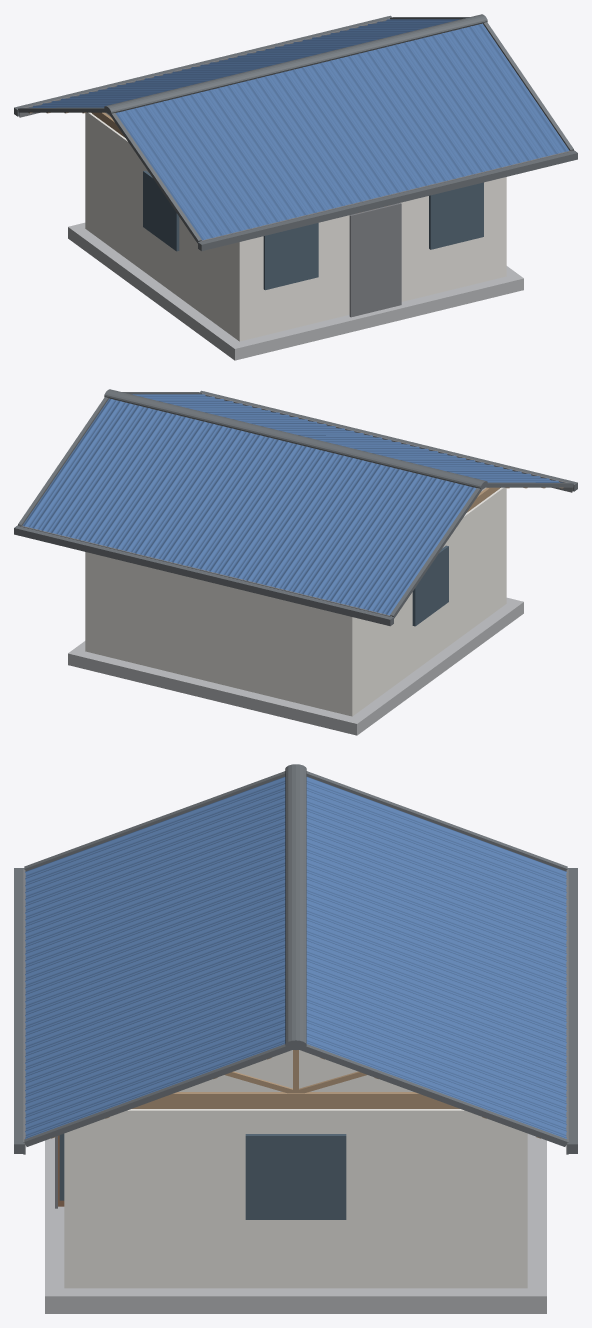
Rendered from Mega_Six_Ribs_Starter_House_6x6.glb.
The picture shows the model from 3 angles, top to bottom: view 1: azimuth 30°, elevation 25°; view 2: azimuth 150°, elevation 25°; view 3: azimuth 270°, elevation 25°; orthographic projection. The views are drawn at different scales.
Parts seen in each view (by area): view 1: GroundFloor_Walls, Foundation, RoofSheet_07, RoofSheet_06, RoofSheet_02, RoofSheet_03, RoofSheet_04, RoofSheet_05, RoofSheet_08, RoofSheet_01, Door_Frame, Ridge_Cap (+18 smaller); view 2: GroundFloor_Walls, Foundation, RoofSheet_15, RoofSheet_14, RoofSheet_10, RoofSheet_11, RoofSheet_12, RoofSheet_13, RoofSheet_16, RoofSheet_09, Ridge_Cap, Gutter_Back (+15 smaller); view 3: GroundFloor_Walls, Foundation, RoofSheet_05, RoofSheet_13, RoofSheet_02, RoofSheet_10, RoofSheet_04, RoofSheet_07, RoofSheet_12, RoofSheet_15, RoofSheet_03, RoofSheet_06 (+19 smaller).
Boxes of the visible parts, left/top/right/bottom form: GroundFloor_Walls: left=85, top=112, right=506, bottom=341; Foundation: left=68, top=222, right=523, bottom=360; RoofSheet_07: left=392, top=34, right=524, bottom=172; RoofSheet_06: left=345, top=46, right=478, bottom=184; RoofSheet_02: left=159, top=91, right=291, bottom=229; RoofSheet_03: left=206, top=80, right=338, bottom=218; RoofSheet_04: left=252, top=68, right=384, bottom=206; RoofSheet_05: left=299, top=57, right=431, bottom=195; RoofSheet_08: left=438, top=23, right=569, bottom=161; RoofSheet_01: left=115, top=102, right=245, bottom=240; Door_Frame: left=349, top=203, right=401, bottom=317; Ridge_Cap: left=104, top=14, right=487, bottom=114; GroundFloor_Walls: left=85, top=487, right=506, bottom=716; Foundation: left=68, top=597, right=523, bottom=735; RoofSheet_15: left=67, top=409, right=199, bottom=547; RoofSheet_14: left=113, top=421, right=246, bottom=559; RoofSheet_10: left=300, top=466, right=432, bottom=604; RoofSheet_11: left=253, top=455, right=385, bottom=593; RoofSheet_12: left=207, top=443, right=339, bottom=581; RoofSheet_13: left=160, top=432, right=292, bottom=570; RoofSheet_16: left=22, top=398, right=153, bottom=536; RoofSheet_09: left=346, top=477, right=476, bottom=615; Ridge_Cap: left=104, top=389, right=487, bottom=489; Gutter_Back: left=14, top=525, right=393, bottom=626; GroundFloor_Walls: left=64, top=1109, right=527, bottom=1288; Foundation: left=45, top=1133, right=546, bottom=1313; RoofSheet_05: left=25, top=911, right=285, bottom=1040; RoofSheet_13: left=306, top=911, right=566, bottom=1040; RoofSheet_02: left=25, top=809, right=285, bottom=937; RoofSheet_10: left=306, top=809, right=566, bottom=937; RoofSheet_04: left=25, top=877, right=285, bottom=1006; RoofSheet_07: left=25, top=980, right=285, bottom=1108; RoofSheet_12: left=306, top=877, right=566, bottom=1006; RoofSheet_15: left=306, top=980, right=566, bottom=1108; RoofSheet_03: left=25, top=843, right=285, bottom=971; RoofSheet_06: left=25, top=946, right=285, bottom=1074.
Size of the model in its own units: 8.46 by 4.36 by 7.3.
